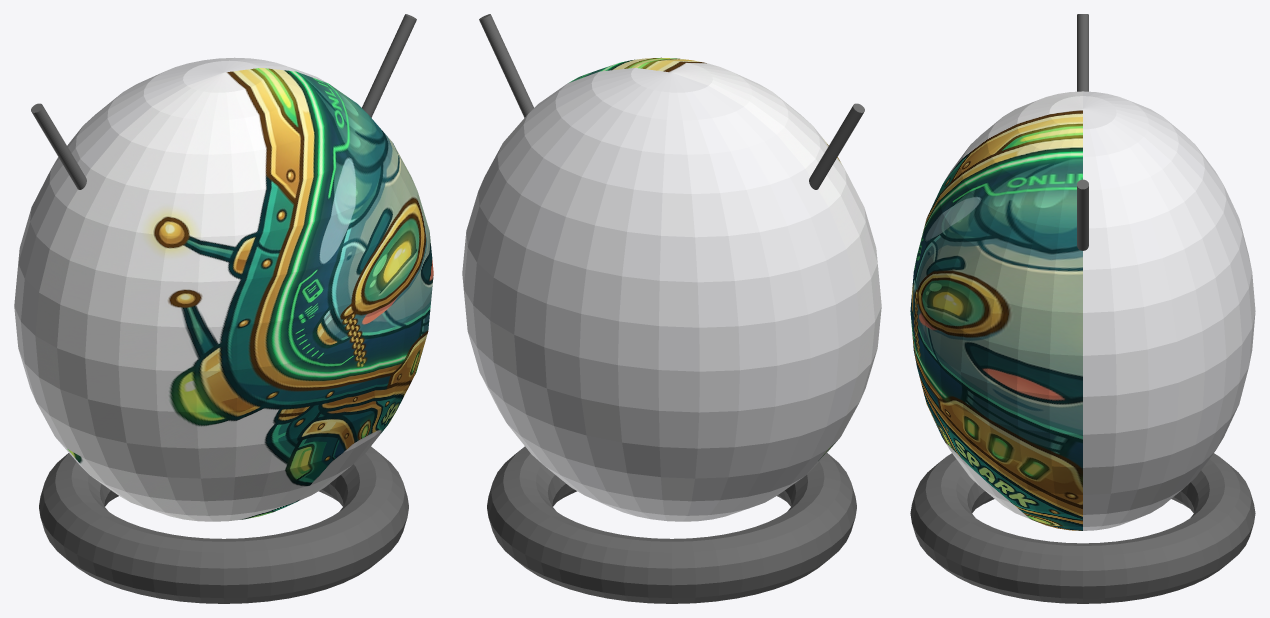
The model's file is accountant_v11_robot.glb.
The picture shows the model from 3 angles, left to right: view 1: azimuth 30°, elevation 25°; view 2: azimuth 150°, elevation 25°; view 3: azimuth 270°, elevation 25°; orthographic projection. The views are drawn at different scales.
Parts seen in each view (by area): view 1: Robot_Head, Torus, Cylinder.001, Cylinder; view 2: Robot_Head, Torus, Cylinder.001, Cylinder; view 3: Robot_Head, Torus, Cylinder, Cylinder.001.
Boxes of the visible parts, x1,y1,x2,y2 form: Robot_Head: (14,57,433,521); Torus: (39,446,408,603); Cylinder.001: (362,14,416,117); Cylinder: (31,103,86,189); Robot_Head: (462,57,881,521); Torus: (487,446,856,603); Cylinder.001: (479,14,533,117); Cylinder: (809,103,864,189); Robot_Head: (910,91,1255,530); Torus: (910,453,1255,603); Cylinder: (1077,14,1088,91); Cylinder.001: (1077,179,1088,250).
Bounding box in the file's own units: 2.04 × 2.42 × 1.7.
Materials: 3 (1 with a texture image).
